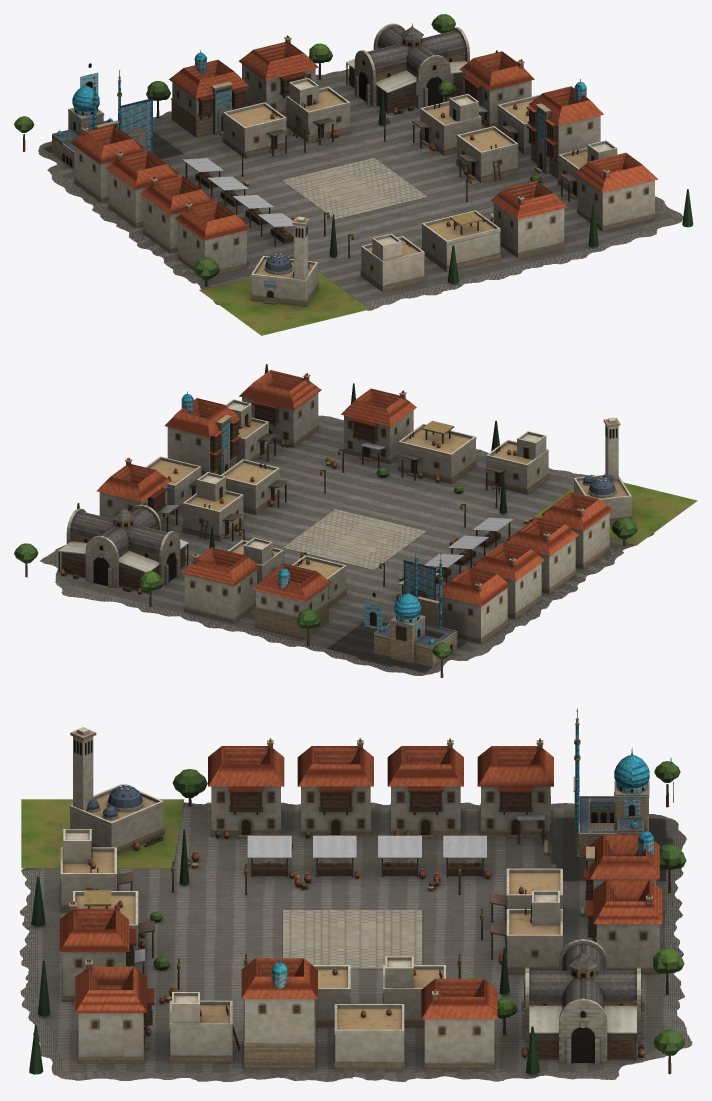
Rendered from gunpowder-town-medium-b-levant-35d96657.glb.
3 views of the same model, one above another, from view 1: azimuth 30°, elevation 25°; view 2: azimuth 150°, elevation 25°; view 3: azimuth 270°, elevation 25° (orthographic). The views are drawn at different scales.
Parts seen in each view (by area): view 1: LOD0; view 2: LOD0; view 3: LOD0.
Part boxes in pixels (bbox=[...]): LOD0: bbox=[14, 14, 693, 335]; LOD0: bbox=[14, 364, 697, 677]; LOD0: bbox=[19, 708, 692, 1081].
Size of what is drawn, in the model's own units: 6.03 by 1.22 by 6.09.
3 materials, 3 textured.
